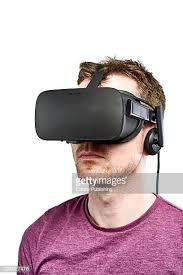oculus: (33, 88, 154, 145)
